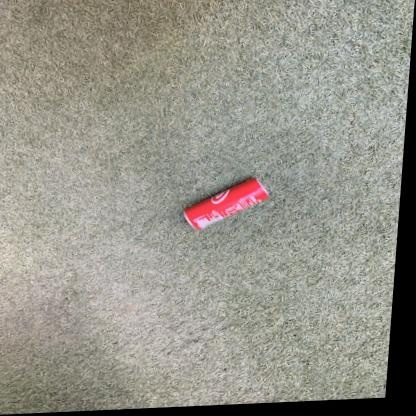trash: (183, 178, 268, 229)
